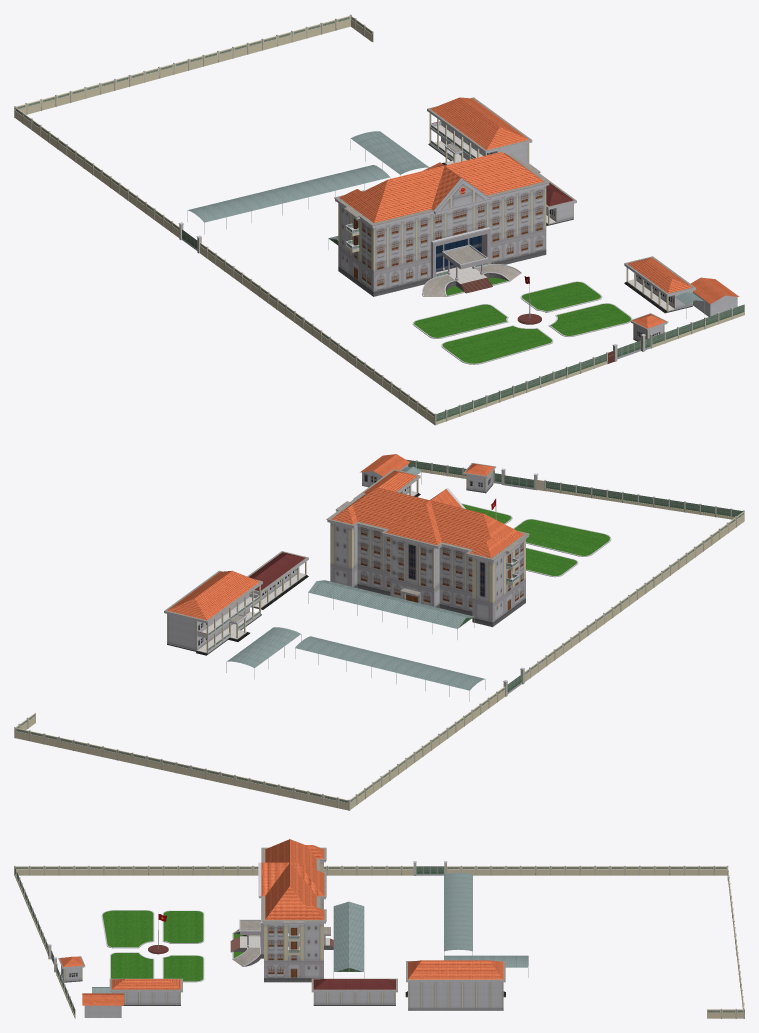
Rendered from VienkiemsatnhandantinhBinhPhuocall.glb.
3 views of the same model, one above another, from view 1: azimuth 30°, elevation 25°; view 2: azimuth 150°, elevation 25°; view 3: azimuth 270°, elevation 25° (orthographic). The views are drawn at different scales.
Visible parts, largest first — view 1: BPH019_VienkiemsatnhandantinhBinhPhuoc_nha_B_hangrao, BPH019_VienkiemsatnhandantinhBinhPhuoc_nha_A; view 2: BPH019_VienkiemsatnhandantinhBinhPhuoc_nha_B_hangrao, BPH019_VienkiemsatnhandantinhBinhPhuoc_nha_A; view 3: BPH019_VienkiemsatnhandantinhBinhPhuoc_nha_B_hangrao, BPH019_VienkiemsatnhandantinhBinhPhuoc_nha_A.
Part boxes in pixels (x1,y1,x2,y2): BPH019_VienkiemsatnhandantinhBinhPhuoc_nha_B_hangrao: [14, 14, 744, 425]; BPH019_VienkiemsatnhandantinhBinhPhuoc_nha_A: [328, 152, 550, 296]; BPH019_VienkiemsatnhandantinhBinhPhuoc_nha_B_hangrao: [14, 454, 744, 810]; BPH019_VienkiemsatnhandantinhBinhPhuoc_nha_A: [308, 487, 529, 639]; BPH019_VienkiemsatnhandantinhBinhPhuoc_nha_B_hangrao: [14, 861, 744, 1018]; BPH019_VienkiemsatnhandantinhBinhPhuoc_nha_A: [230, 839, 364, 982].
Bounding box in the file's own units: 90.31 × 24.57 × 194.
2 materials, 2 textured.
